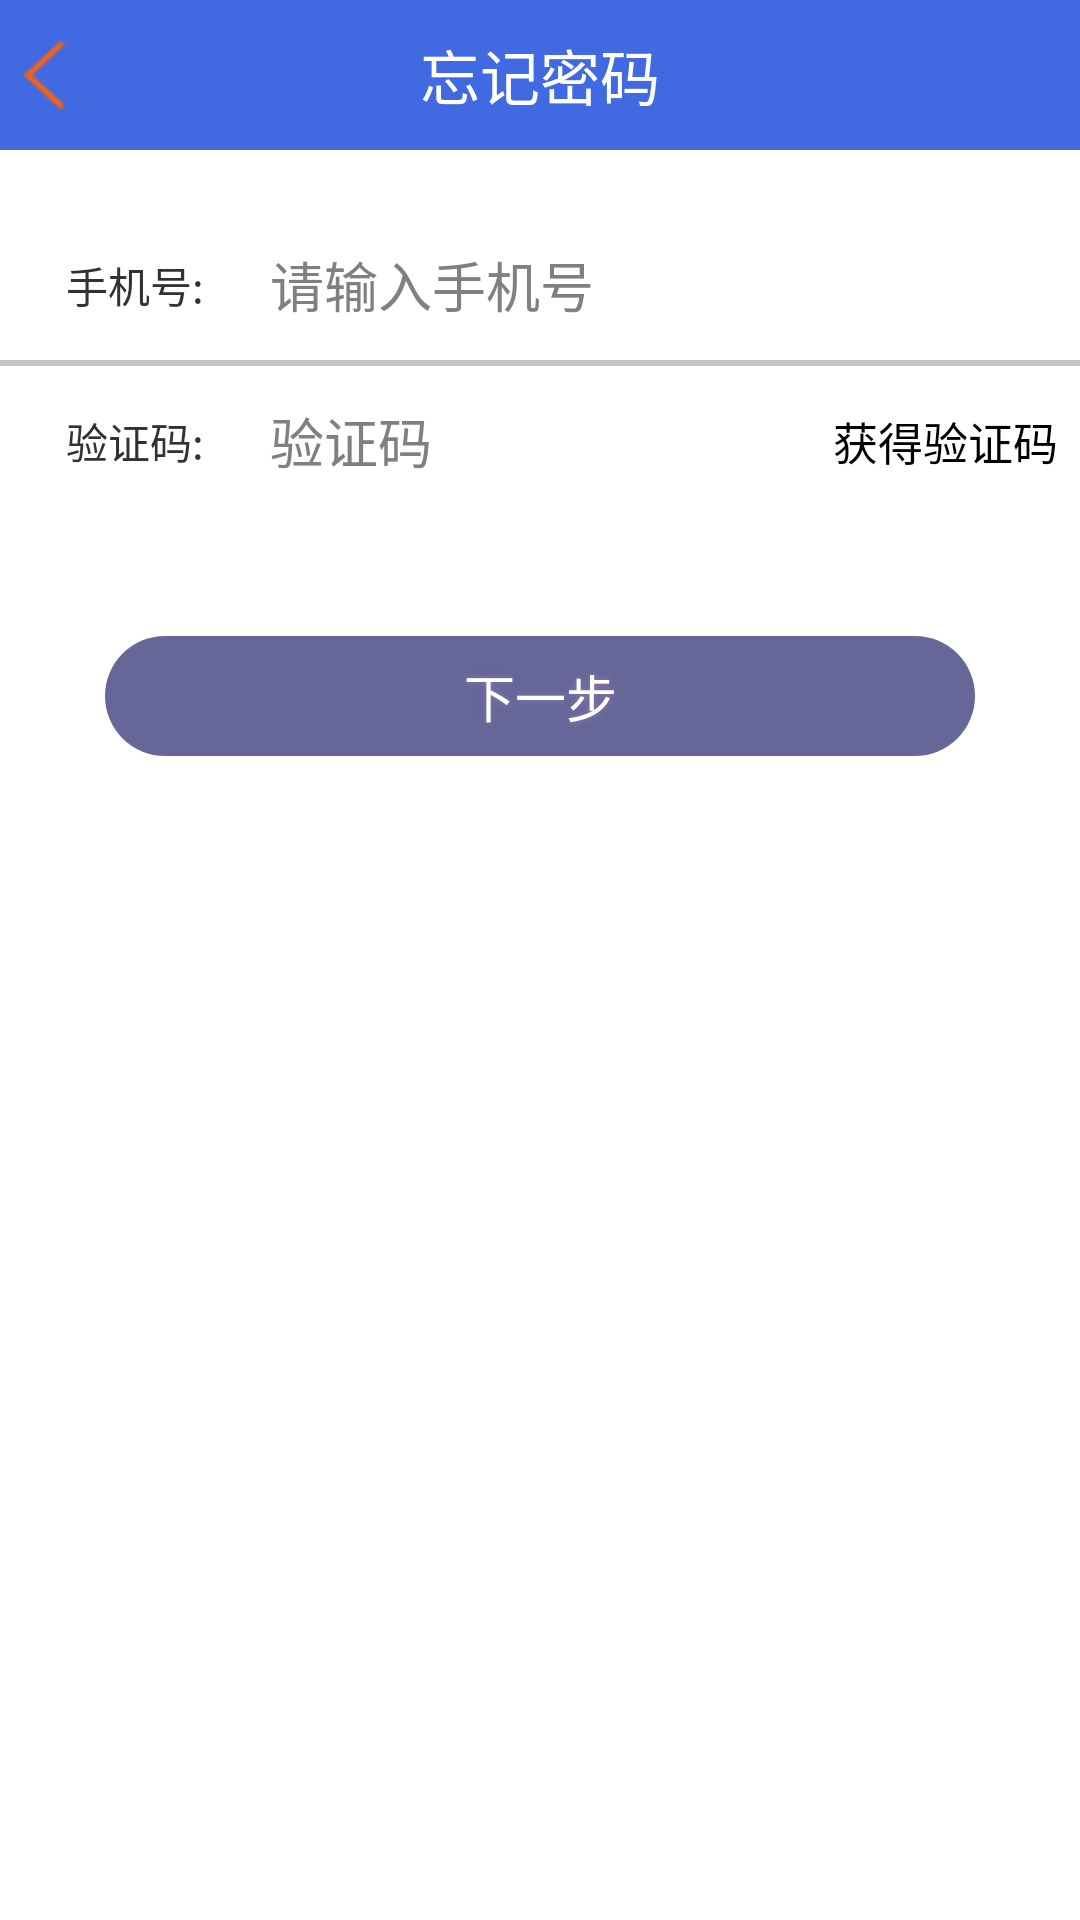

Where icons sit on this 1080px×1920px app screen, as (x1, y1, x2, y2):
back: (24, 41, 66, 109)
